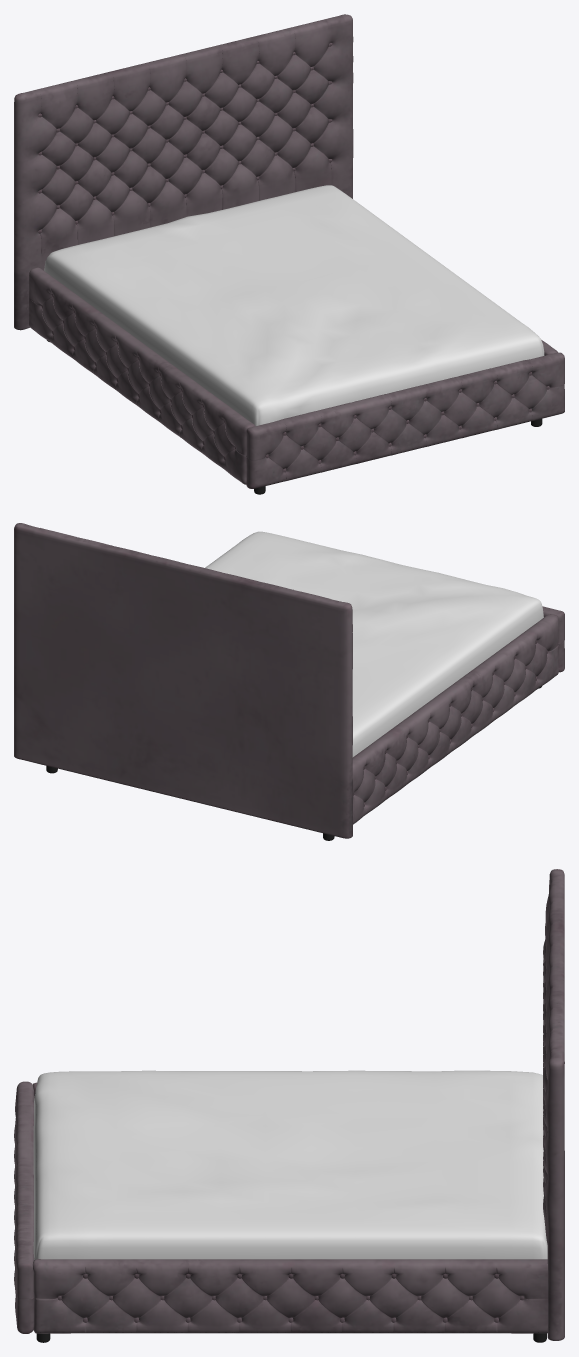
The model's file is fabric-cot.glb.
3 views of the same model, one above another, from view 1: azimuth 30°, elevation 25°; view 2: azimuth 150°, elevation 25°; view 3: azimuth 270°, elevation 25° (orthographic). The views are drawn at different scales.
Visible parts, largest first — view 1: front1; view 2: front1; view 3: front1.
Part boxes in pixels (x1,y1,x2,y2): front1: [14, 14, 564, 494]; front1: [14, 523, 564, 840]; front1: [14, 869, 564, 1342].
Bounding box in the file's own units: 1.86 × 1.3 × 2.2.
Materials: 1 (1 with a texture image).
